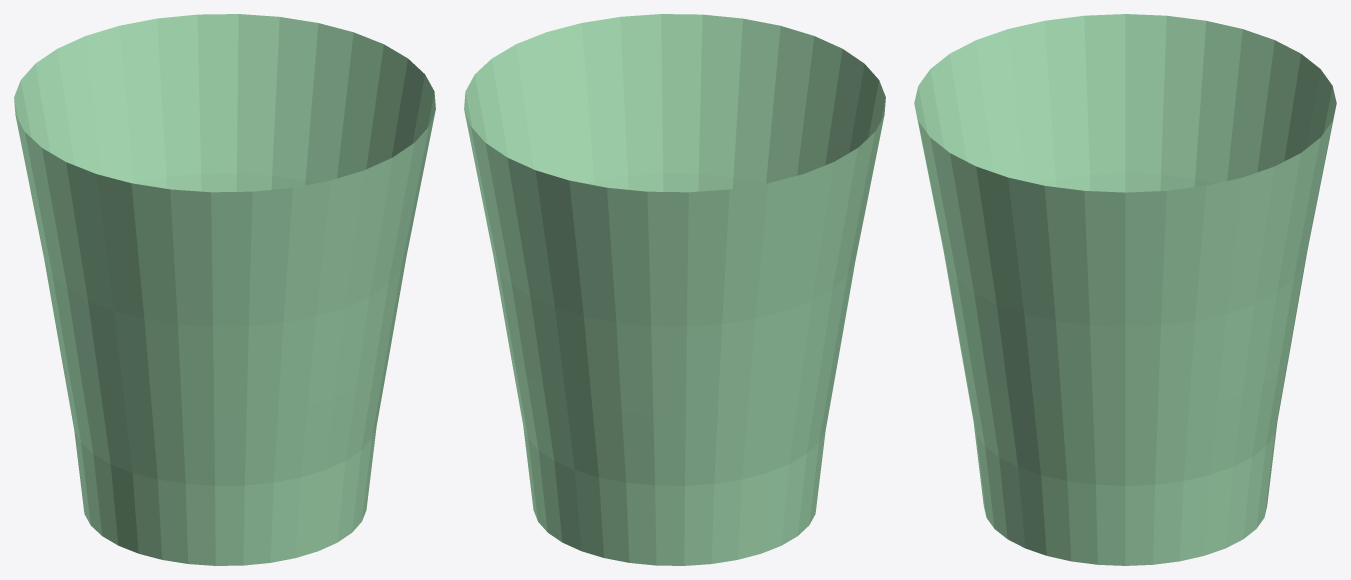
File: bin.fbx
3 views of the same model, side by side, from view 1: azimuth 30°, elevation 25°; view 2: azimuth 150°, elevation 25°; view 3: azimuth 270°, elevation 25° (orthographic).
Parts seen in each view (by area): view 1: Circle; view 2: Circle; view 3: Circle.
Part boxes in pixels (left/top/right/bottom): Circle: left=14, top=14, right=435, bottom=565; Circle: left=464, top=14, right=885, bottom=565; Circle: left=914, top=14, right=1336, bottom=565.
Size of the model in its own units: 209 by 220 by 209.
